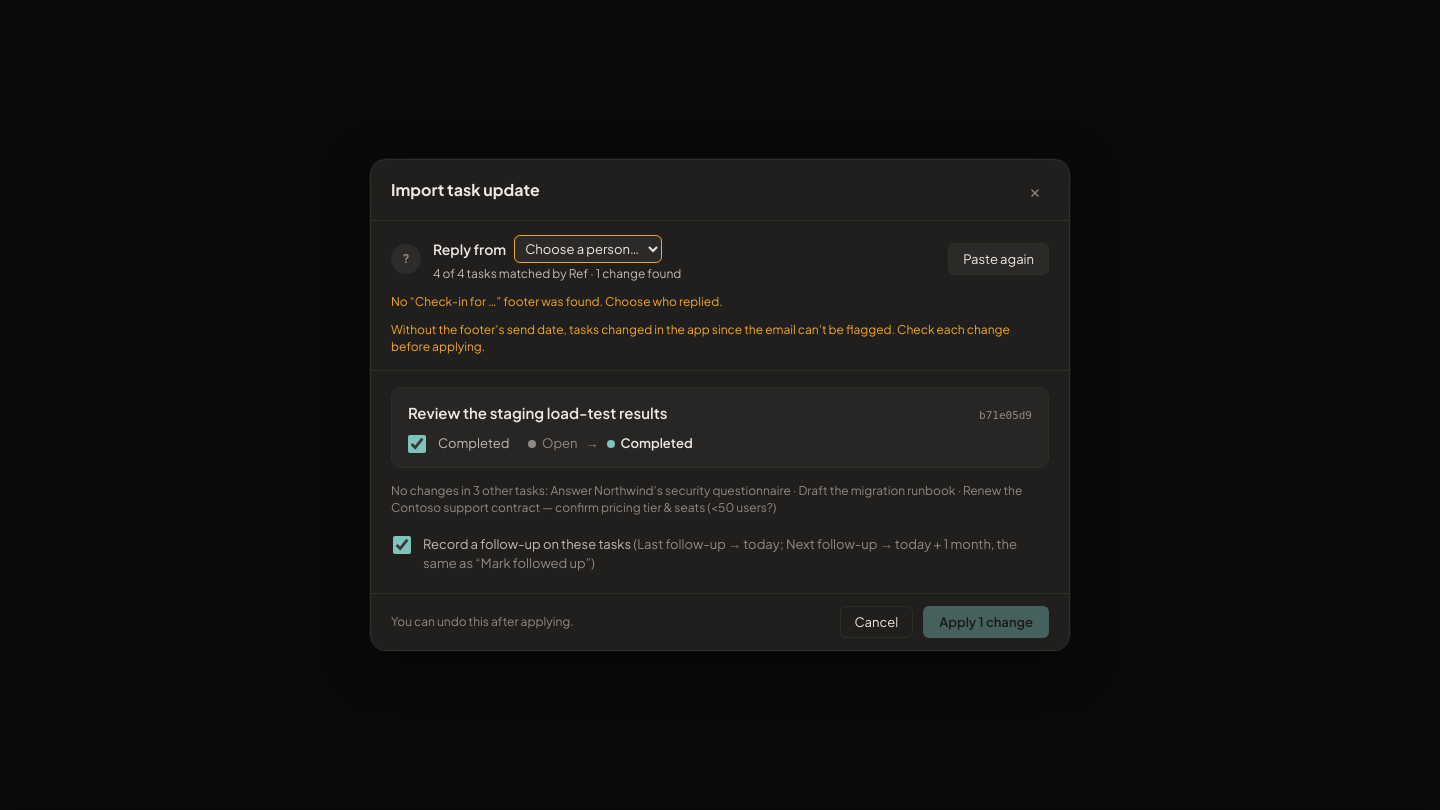
CheckinImportDialog — who replied › no footer: picking someone the tasks aren’t assigned to unticks their changes, with the note
Select "Ada Lovelace" in the dropdown labelled "Reply from" at [588, 249], box [514,235,662,263]
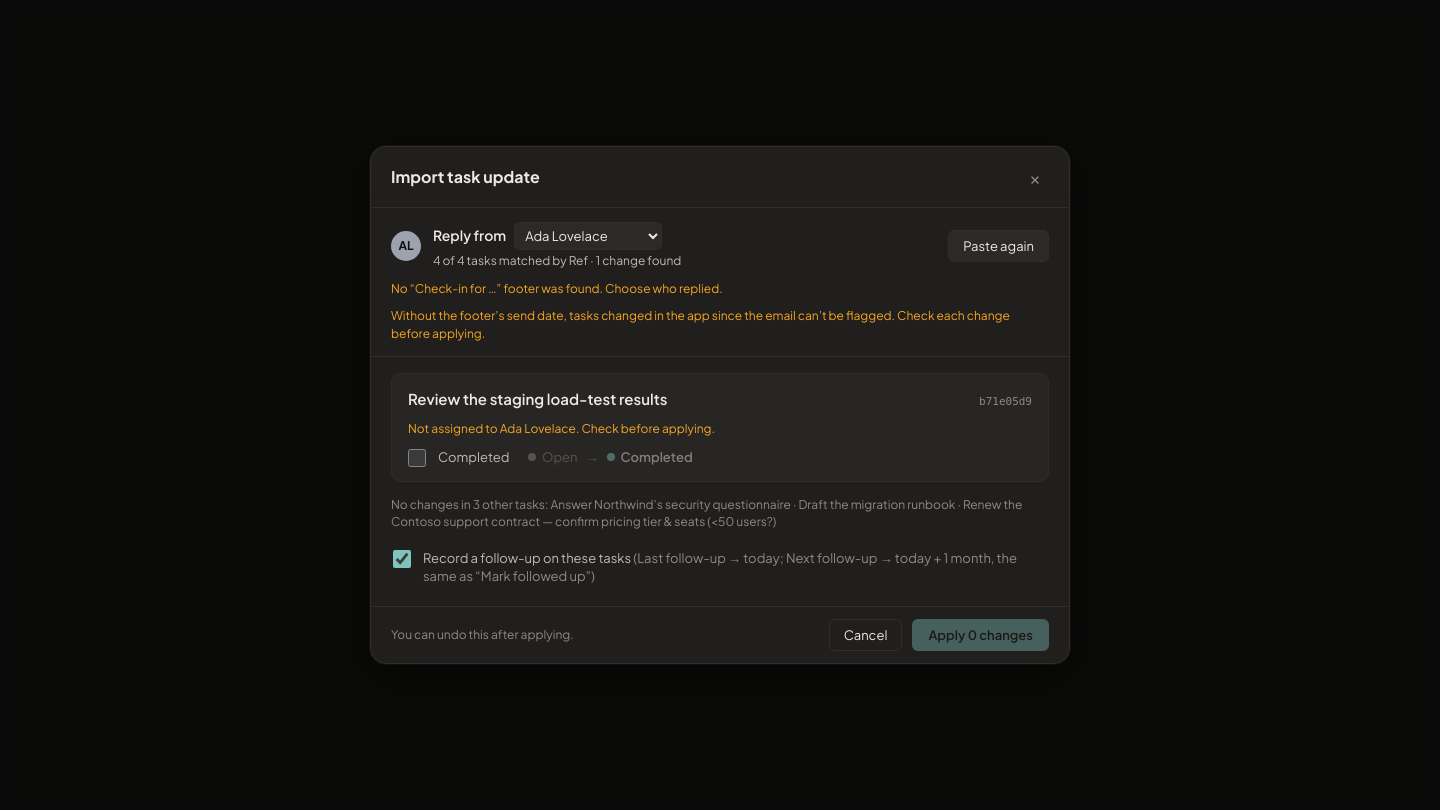
Result: the element "Review the staging load-test results" shows "Not assigned to Ada Lovelace. Check before applying." at [391,373,1049,482]
Result: the checkbox labelled "Completed" is not checked at [408,449,426,467]
